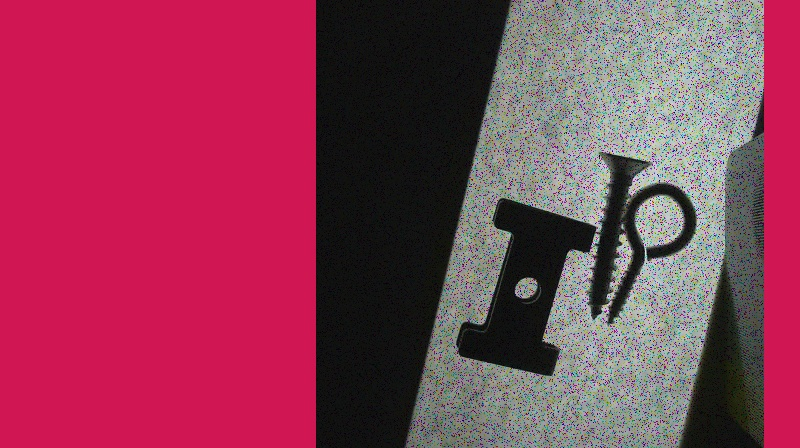O001: (602, 178, 699, 329)
O002: (453, 194, 596, 378)
S001: (586, 145, 655, 321)
